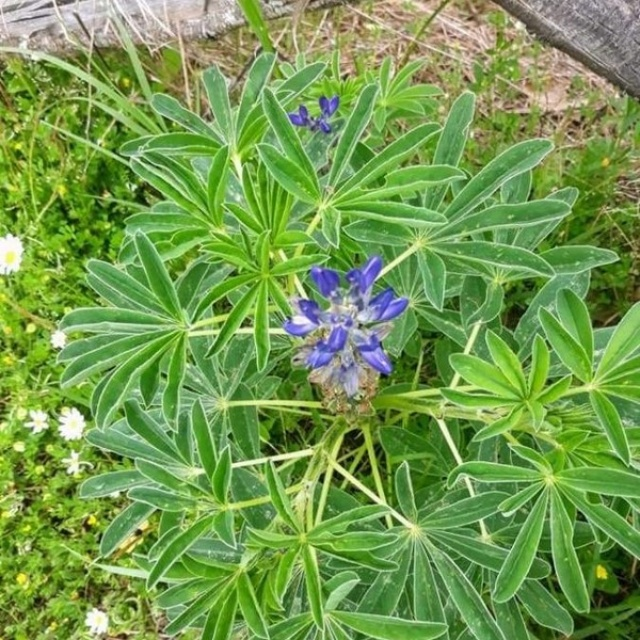obstacle: (97, 74, 579, 592)
